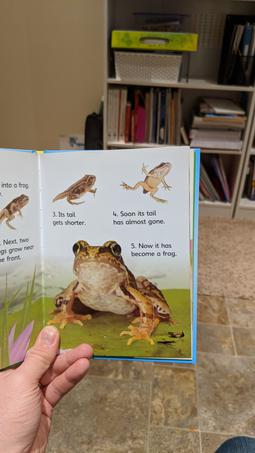text block: (101, 208, 170, 228), (1, 235, 37, 269), (125, 237, 179, 258), (47, 203, 85, 232), (1, 180, 29, 195)
